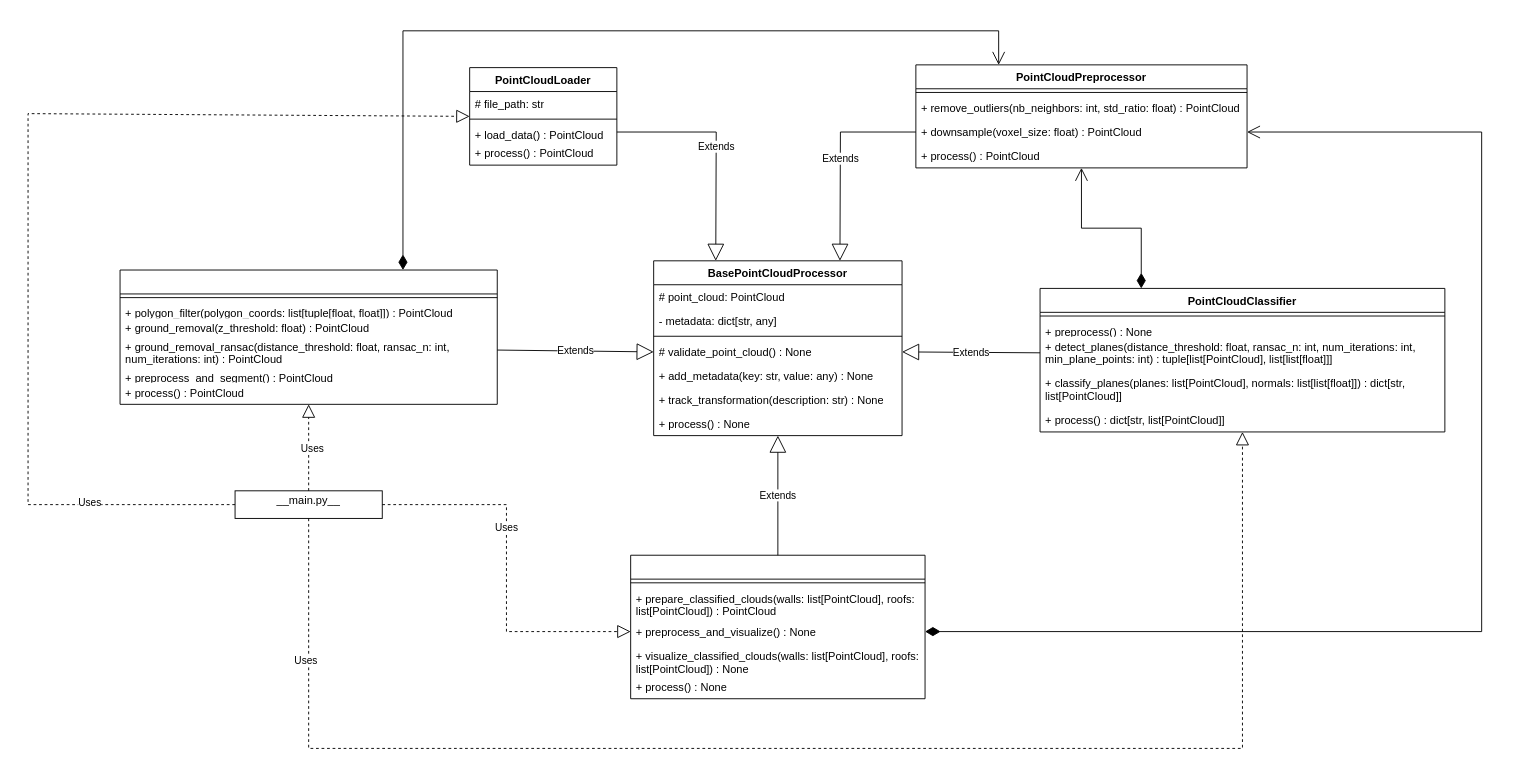
This 1513x777 diagram has some shape labels left out. The box of each missing label's shape, as (x1, y1, x2, y2) in pixels:
PointCloudSegmenter: (119, 269, 497, 404)
PointCloudVisualizer: (630, 554, 925, 699)
